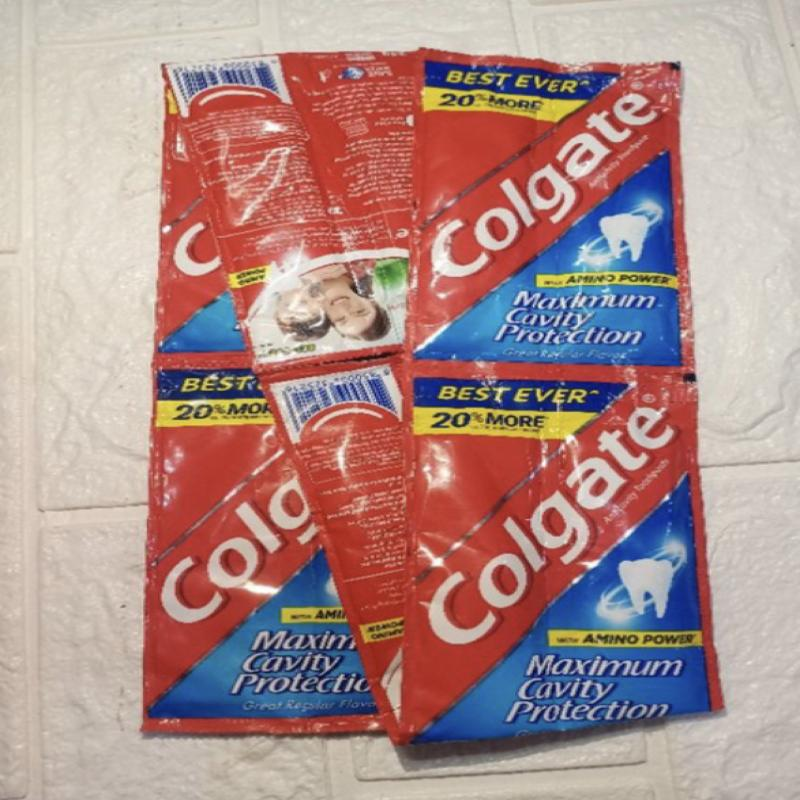plastic sachet: (398, 341, 727, 747), (142, 352, 382, 740), (169, 49, 457, 363), (406, 62, 681, 368), (268, 370, 417, 740), (157, 97, 244, 354)
